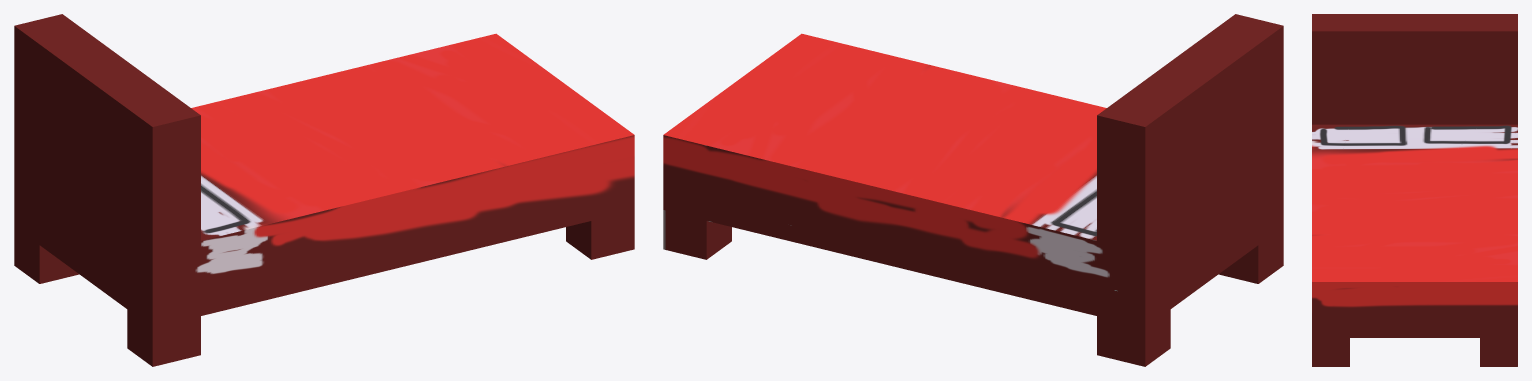
File: bed.fbx
3 views of the same model, side by side, from view 1: azimuth 30°, elevation 25°; view 2: azimuth 150°, elevation 25°; view 3: azimuth 270°, elevation 25° (orthographic). The views are drawn at different scales.
Parts seen in each view (by area): view 1: Cube; view 2: Cube; view 3: Cube.
Boxes of the visible parts, left/top/right/bottom form: Cube: left=14, top=14, right=634, bottom=366; Cube: left=663, top=14, right=1283, bottom=366; Cube: left=1312, top=14, right=1517, bottom=366.
Size of the model in its own units: 402 by 191 by 200.
